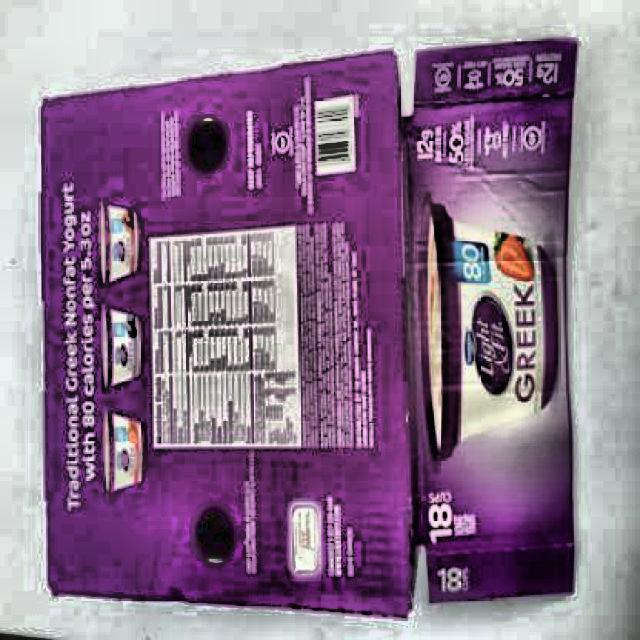Cardbox: (0, 20, 592, 638)
